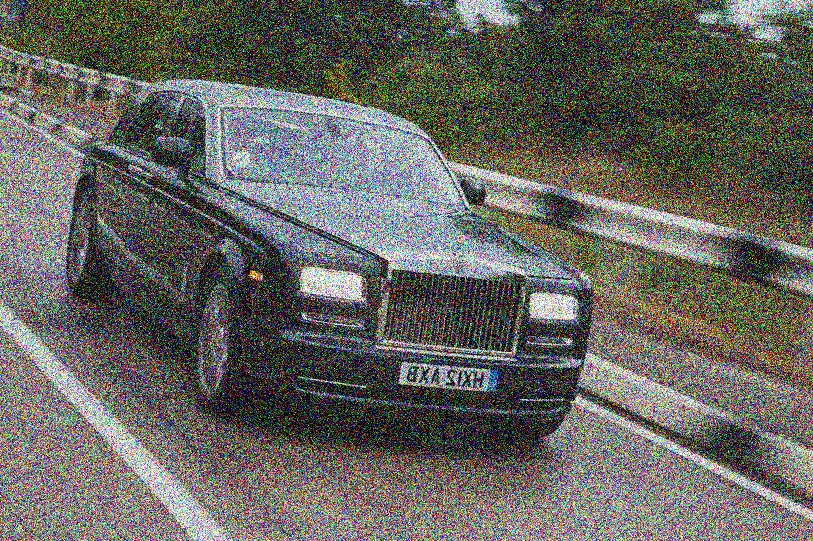car: (50, 38, 642, 484)
